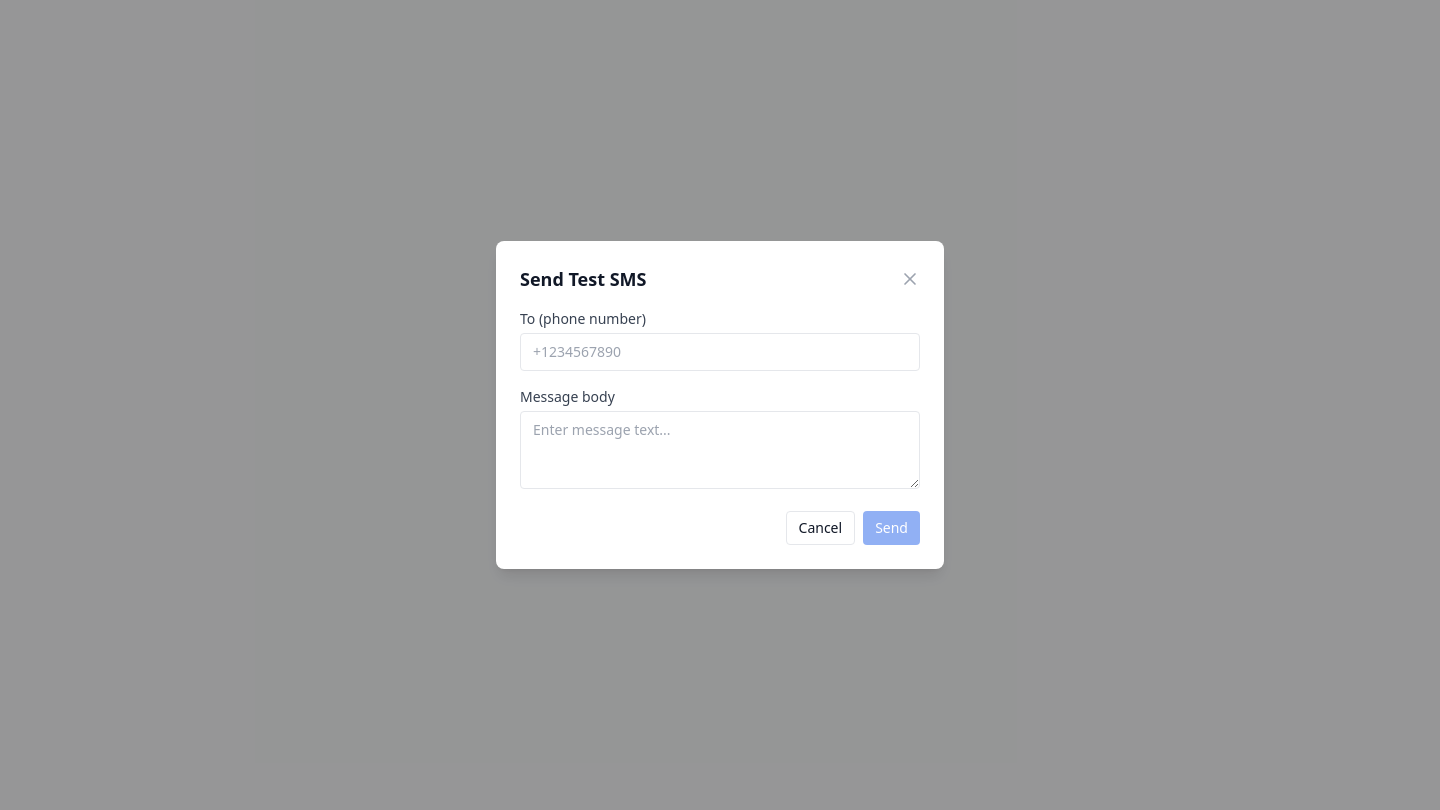
SMSSendTester › shows Sending... while in flight
Type "+15551234567" into the field labelled "To (phone number)" at (720, 352), box [520,333,920,371]
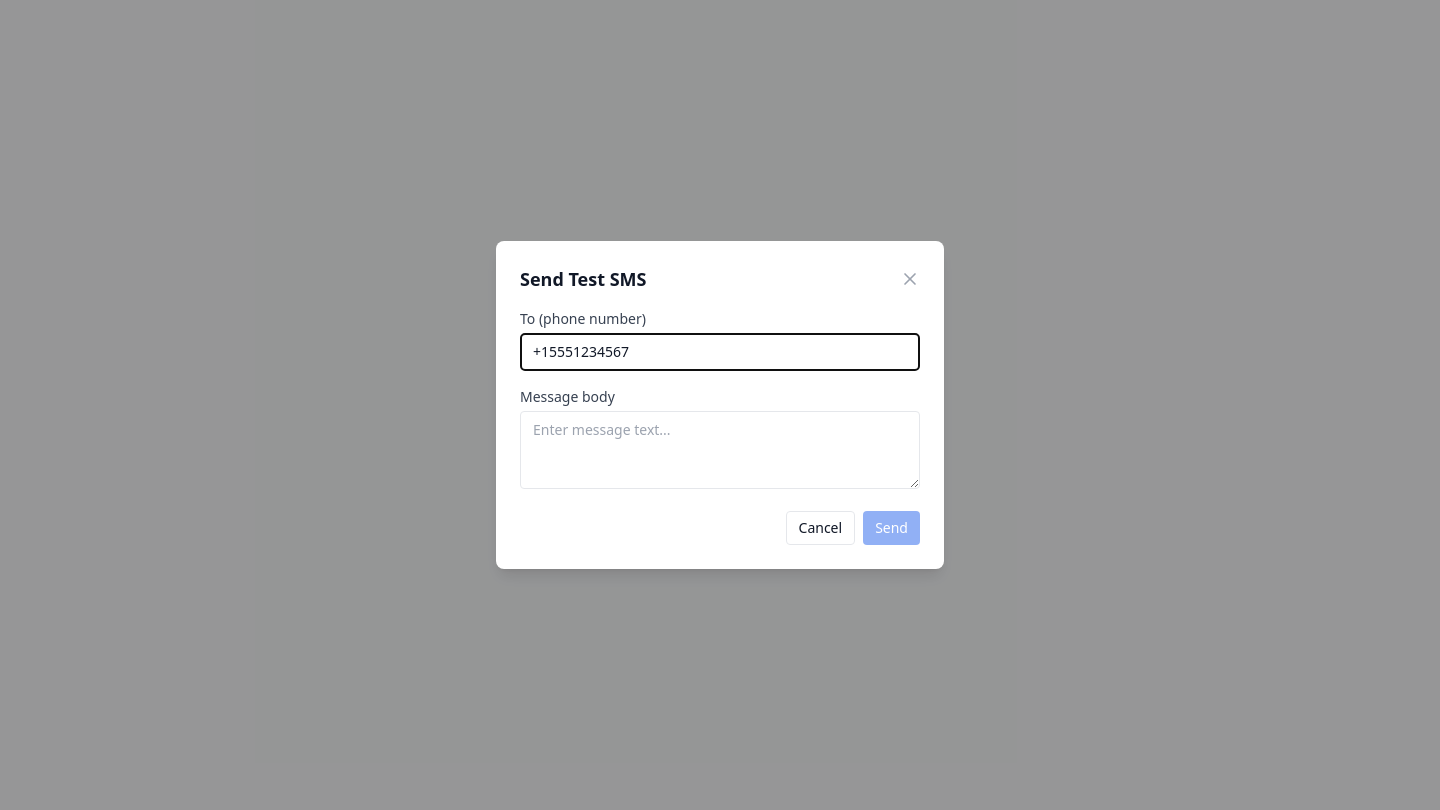
Type "Hello test" into the text box labelled "Message body" at (720, 450), box [520,411,920,489]
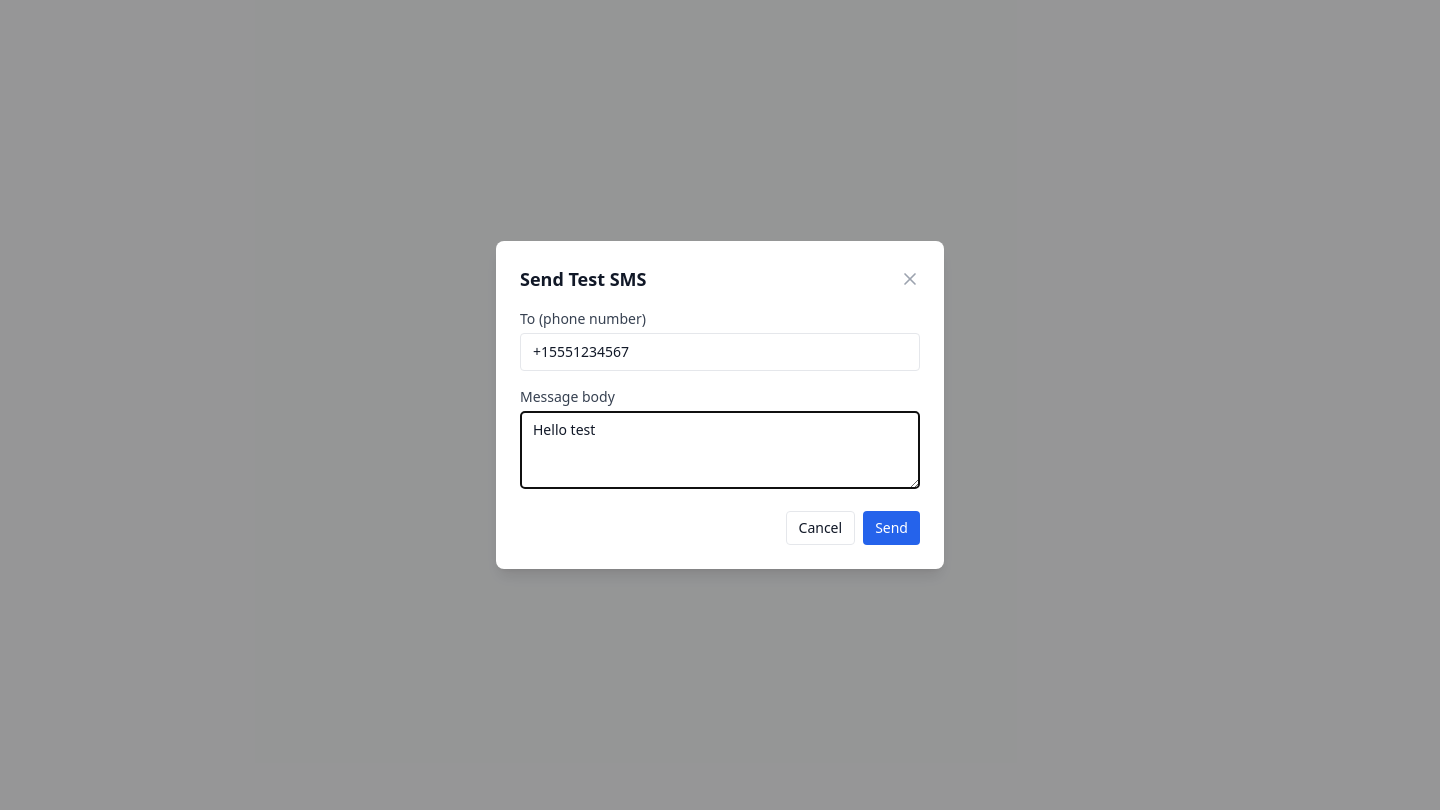
Click the button "Send" at (892, 528), box [863,511,920,545]
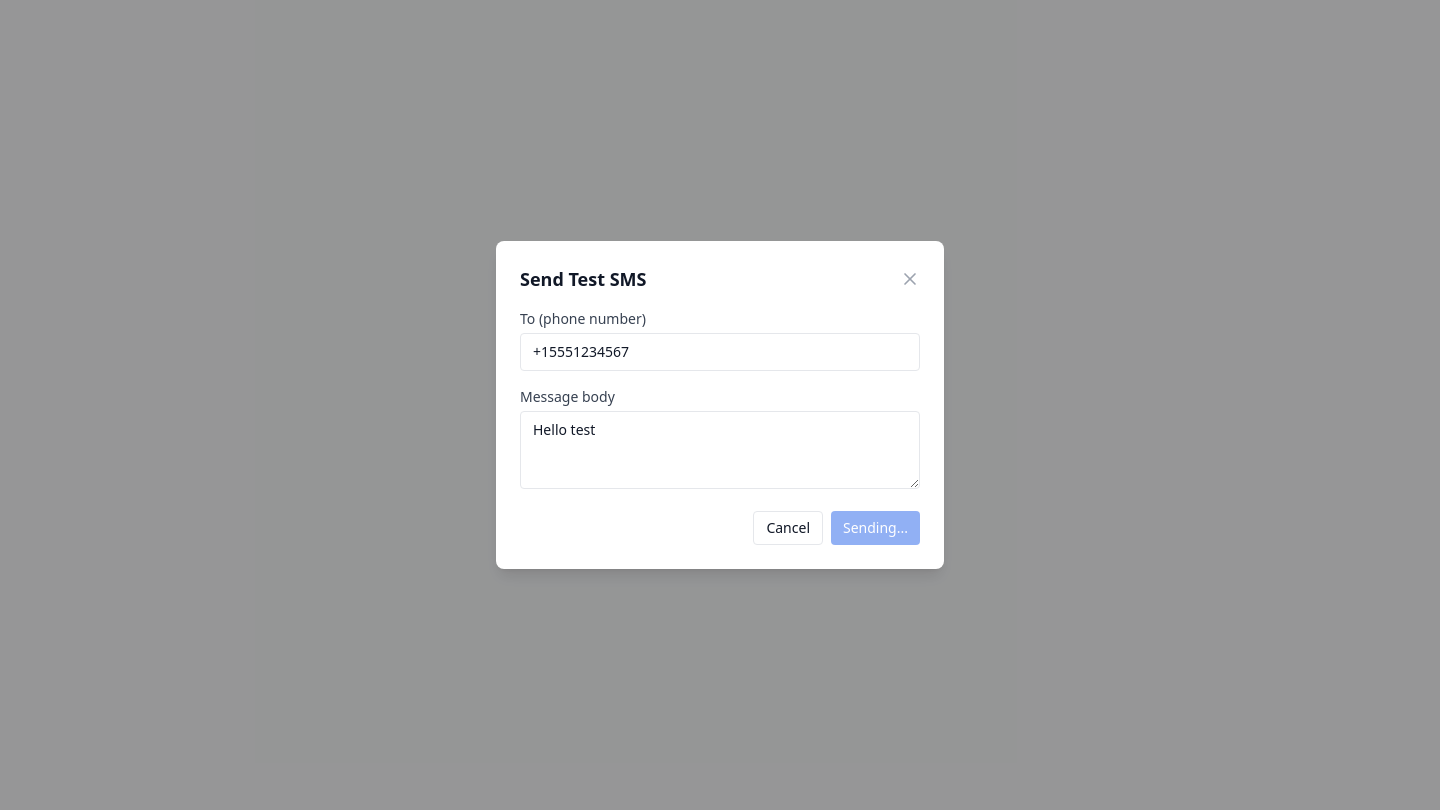
Now the button "Sending..." is disabled, box [831,511,920,545]
